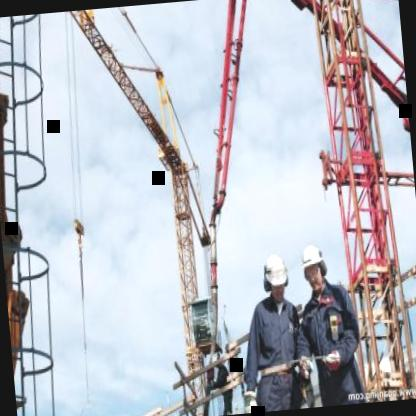helmet: (260, 246, 292, 306), (298, 240, 329, 294)
